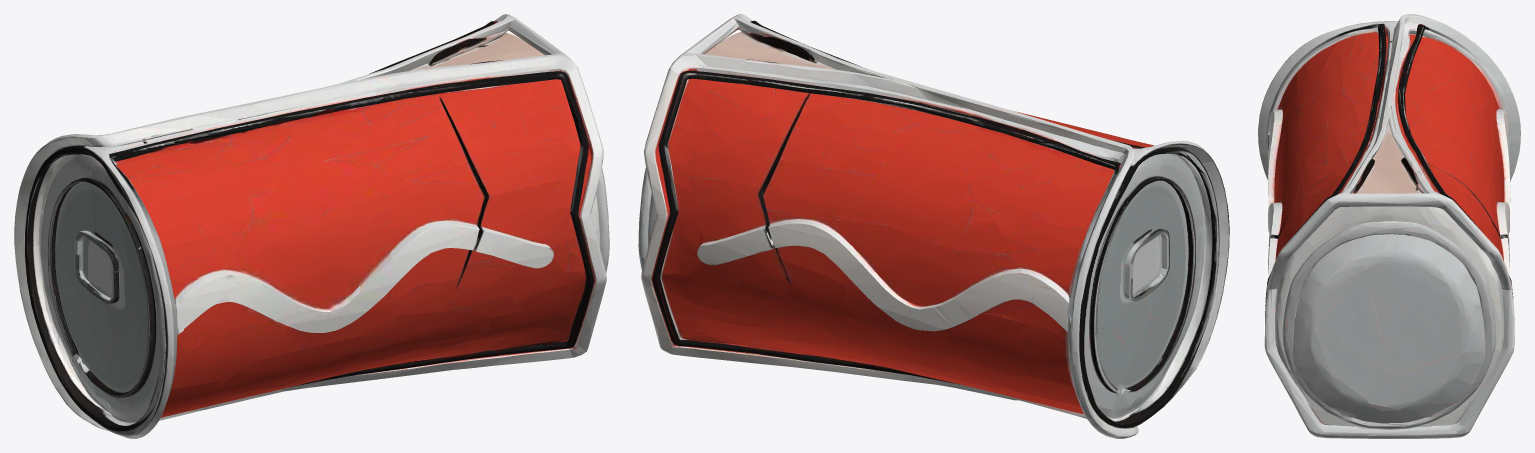
Rendered from lata.glb.
The picture shows the model from 3 angles, left to right: view 1: azimuth 30°, elevation 25°; view 2: azimuth 150°, elevation 25°; view 3: azimuth 270°, elevation 25°; orthographic projection. The views are drawn at different scales.
Bounding box in the file's own units: 1.88 × 1.11 × 1.07.
Materials: 1 (1 with a texture image).
